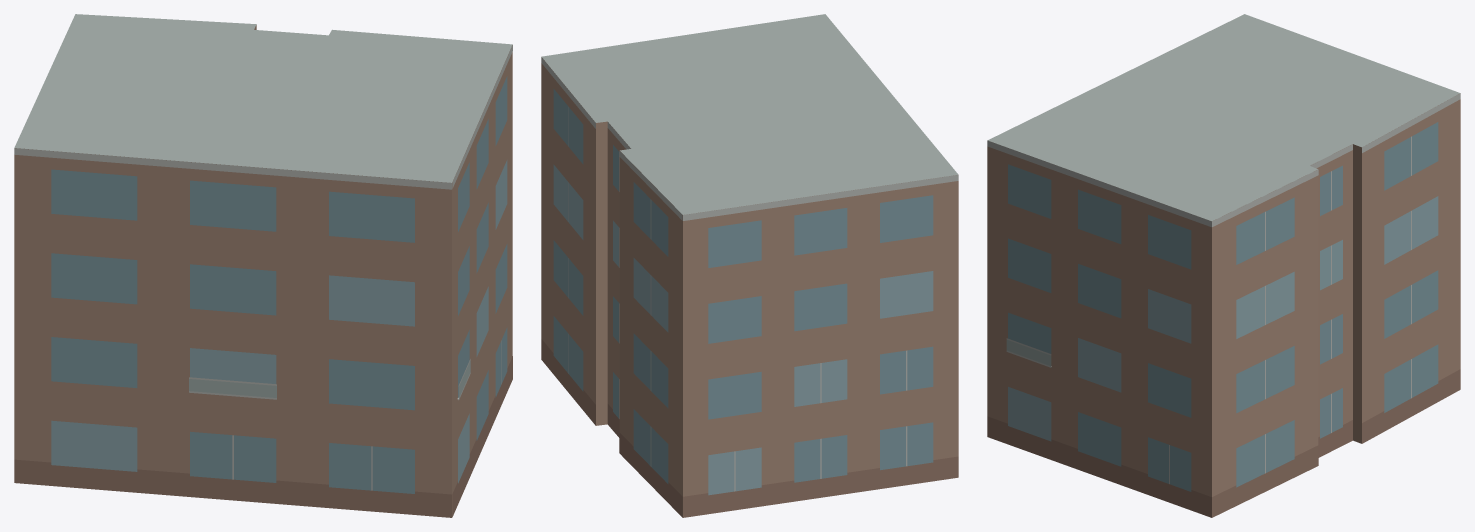
The model's file is survey-upis-32952567.glb.
3 views of the same model, side by side, from view 1: azimuth 30°, elevation 25°; view 2: azimuth 150°, elevation 25°; view 3: azimuth 270°, elevation 25° (orthographic). The views are drawn at different scales.
Visible parts, largest first — view 1: survey-upis-32952567.tmp; view 2: survey-upis-32952567.tmp; view 3: survey-upis-32952567.tmp.
Part boxes in pixels (left/top/right/bottom): survey-upis-32952567.tmp: left=14, top=14, right=512, bottom=517; survey-upis-32952567.tmp: left=541, top=14, right=958, bottom=517; survey-upis-32952567.tmp: left=987, top=14, right=1460, bottom=517.
Bounding box in the file's own units: 18 × 12 × 17.36.
